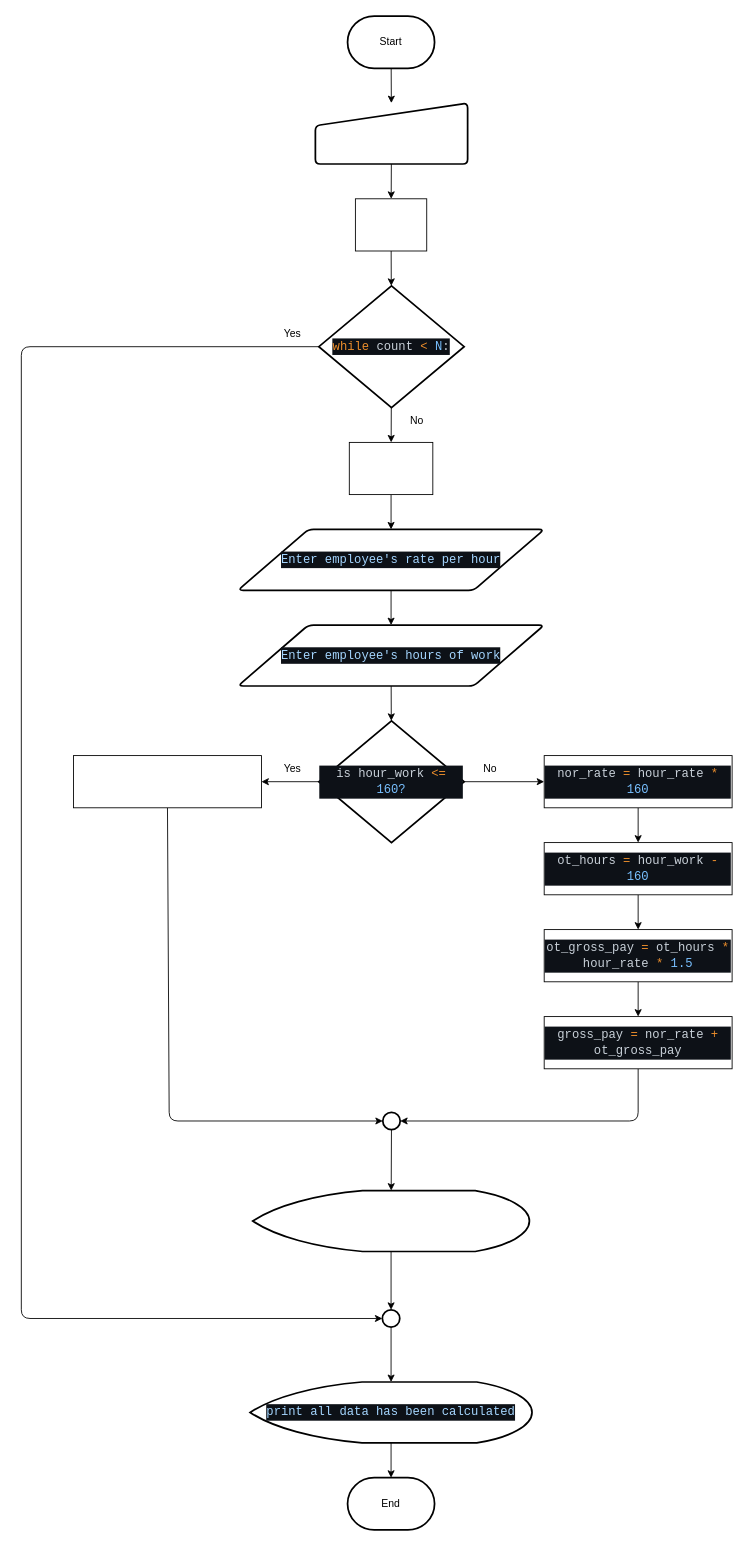
The diagram is 747 pixels wide and 1545 high, and some of its shapes have lost their labels. Here are the shapes that lost their labels. From the top down, the centre of each, then its label:
[391,133]: Enter employees count (N)
[391,224]: count = 0
[390,468]: count by 1
[167,781]: gross_pay = hour_rate * hour_work
[390,1220]: print gross pay for the employee
